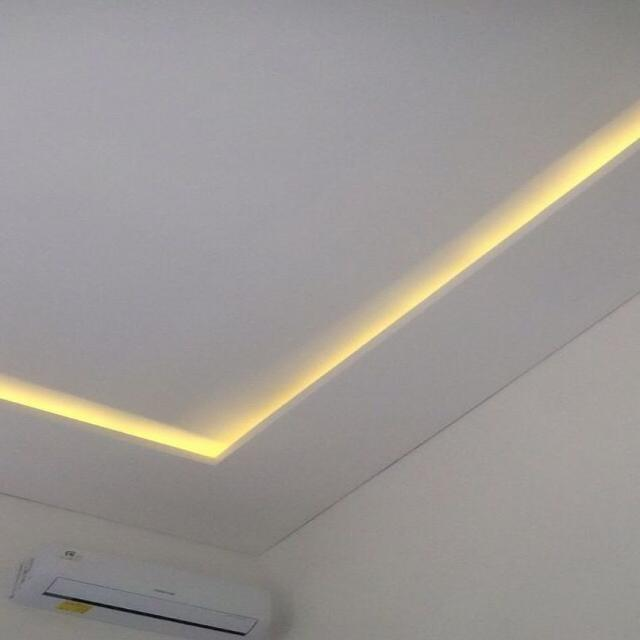AC: (8, 542, 270, 639)
